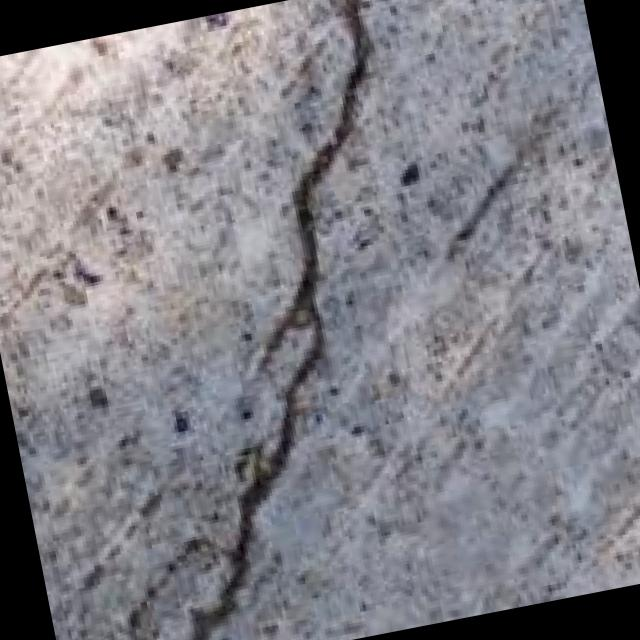crack: (27, 0, 496, 640)
